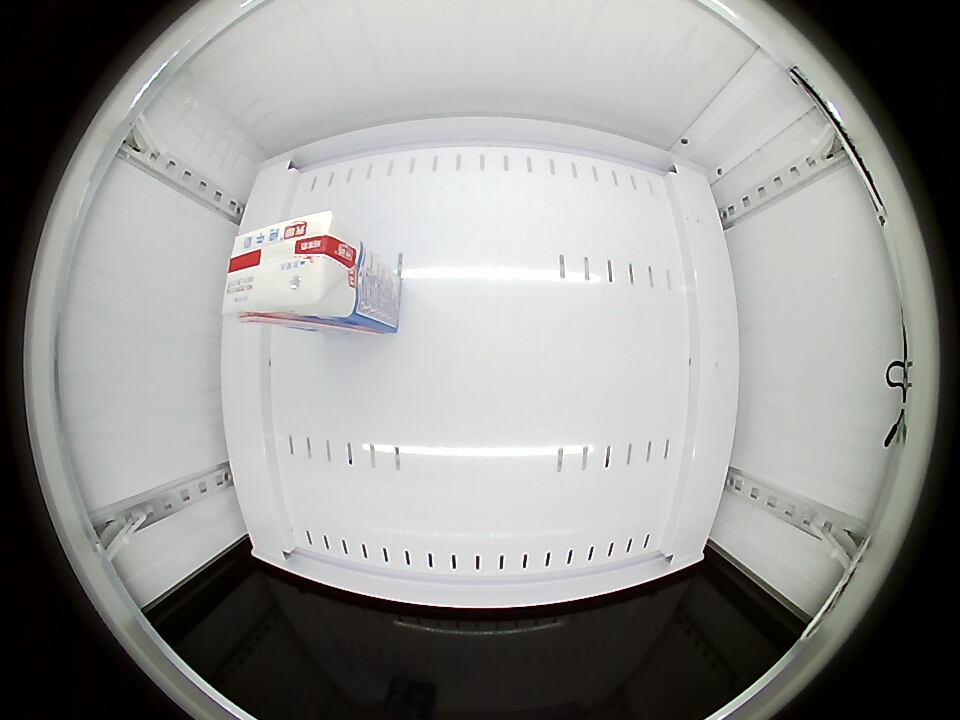niunai: (222, 211, 360, 324)
